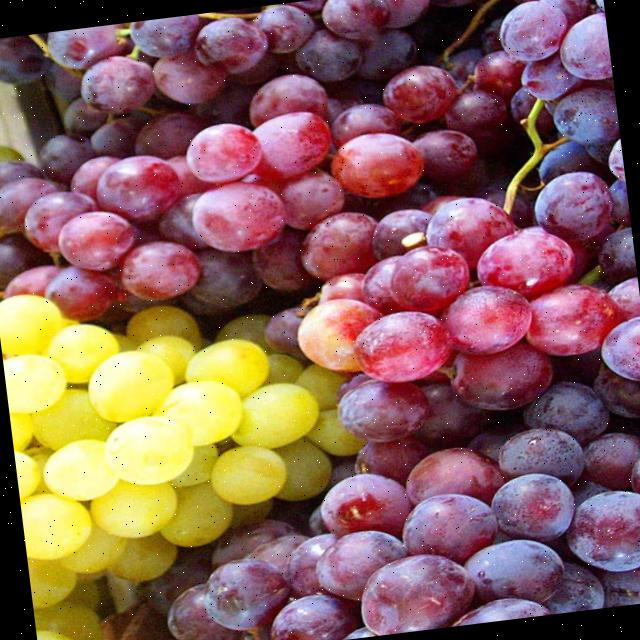grape: (56, 74, 475, 298), (284, 381, 640, 640), (0, 294, 327, 571), (298, 199, 640, 409), (129, 0, 430, 102)
